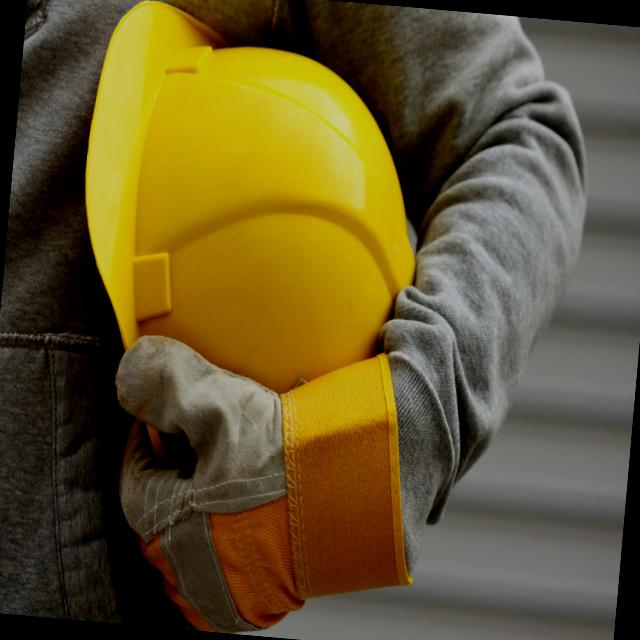helmet: (64, 0, 439, 430)
